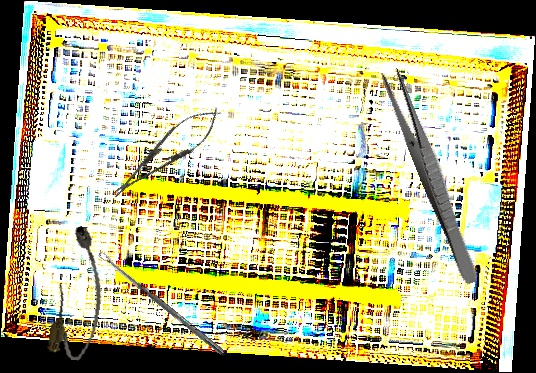Cannula: (45, 224, 114, 363)
Dressing Forceps: (378, 65, 486, 287)
Needle Holder: (102, 97, 229, 209)
Surgical Spoon: (97, 250, 228, 357)
